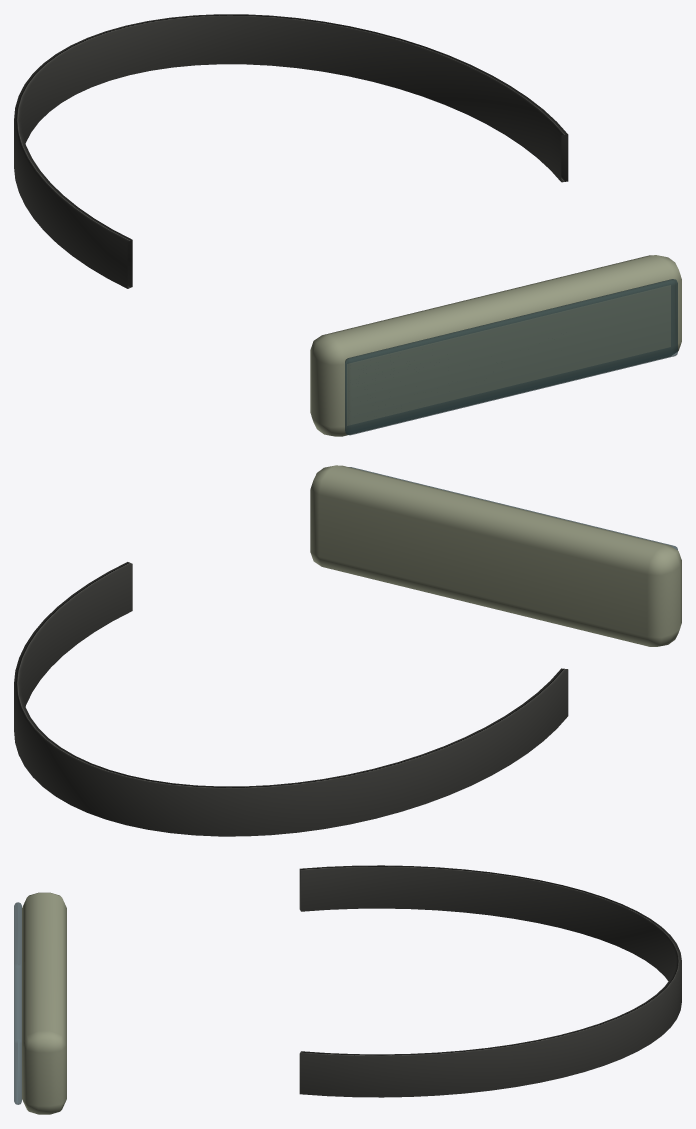
The model's file is goggles_T.glb.
3 renders of one model, top to bottom at view 1: azimuth 30°, elevation 25°; view 2: azimuth 150°, elevation 25°; view 3: azimuth 270°, elevation 25°, orthographic. The views are drawn at different scales.
Visible parts, largest first — view 1: glasses@Head; view 2: glasses@Head; view 3: glasses@Head.
Part boxes in pixels (x1=…): glasses@Head: x1=14, y1=14, x2=681, y2=436; glasses@Head: x1=14, y1=465, x2=681, y2=836; glasses@Head: x1=14, y1=865, x2=681, y2=1114.
Bounding box in the file's own units: 0.2228 × 0.0455 × 0.3284.
